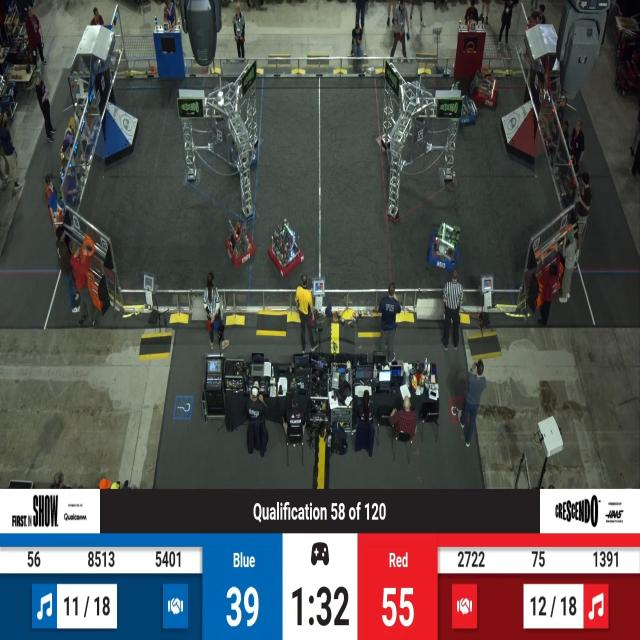Robot: (267, 218, 305, 282), (225, 110, 262, 174), (428, 218, 464, 274), (225, 217, 256, 270), (469, 60, 501, 111), (455, 90, 480, 134)
